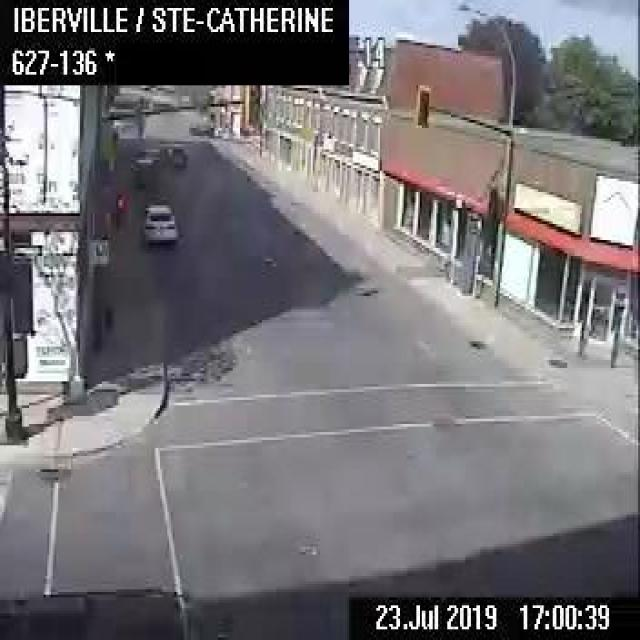vehicle: (140, 200, 178, 248), (128, 140, 186, 170)
